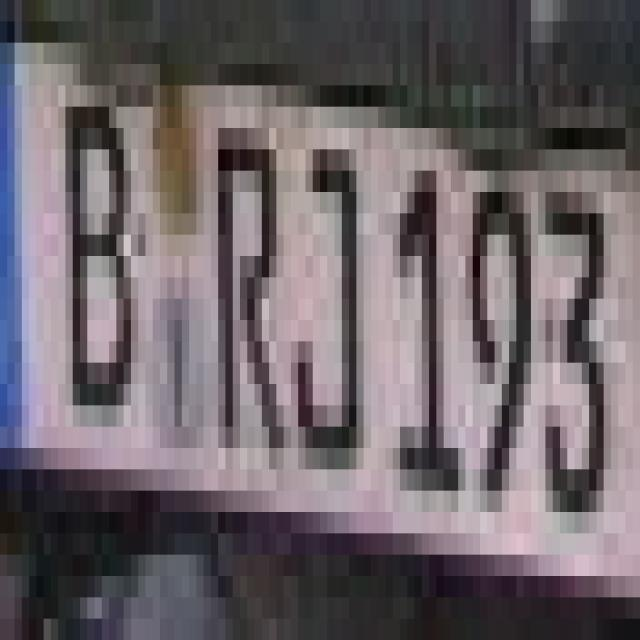1: (371, 128, 458, 512)
3: (524, 170, 604, 554)
9: (458, 150, 531, 534)
B: (65, 43, 131, 405)
